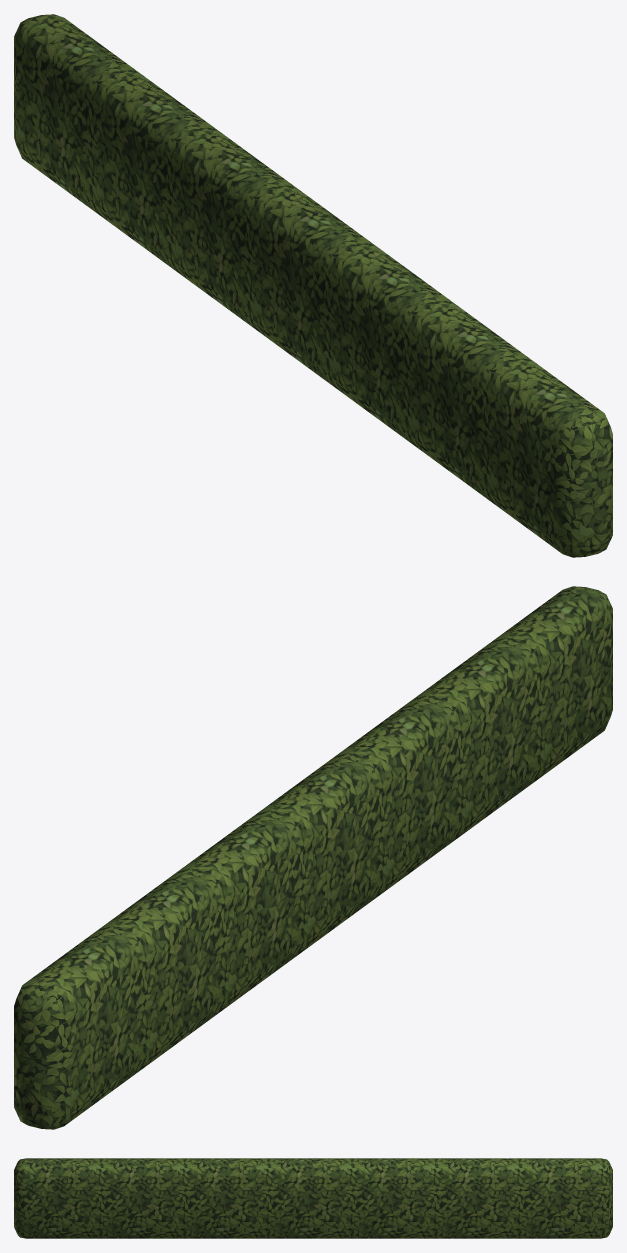
The model's file is art_roofBushShort.fbx.
The picture shows the model from 3 angles, top to bottom: view 1: azimuth 30°, elevation 25°; view 2: azimuth 150°, elevation 25°; view 3: azimuth 270°, elevation 25°; orthographic projection. The views are drawn at different scales.
Visible parts, largest first — view 1: art_roofBushShort; view 2: art_roofBushShort; view 3: art_roofBushShort.
Part boxes in pixels (x1,y1,x2,y2): art_roofBushShort: [14, 14, 612, 557]; art_roofBushShort: [14, 586, 612, 1129]; art_roofBushShort: [14, 1158, 612, 1238].
Bounding box in the file's own units: 636 × 1553 × 11586.
1 material, 1 textured.
